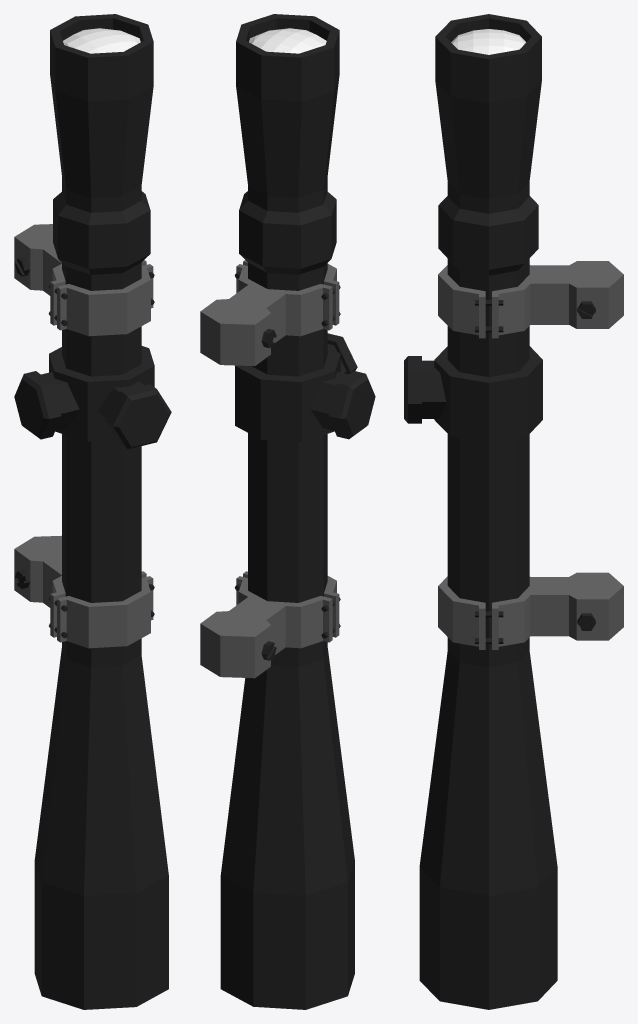
The model's file is ShotgunScope.glb.
The picture shows the model from 3 angles, left to right: view 1: azimuth 30°, elevation 25°; view 2: azimuth 150°, elevation 25°; view 3: azimuth 270°, elevation 25°; orthographic projection.
Parts seen in each view (by area): view 1: ShotgunScope; view 2: ShotgunScope; view 3: ShotgunScope.
Part boxes in pixels (x1,y1,x2,y2): ShotgunScope: [14, 14, 171, 1009]; ShotgunScope: [200, 14, 375, 1009]; ShotgunScope: [404, 14, 623, 1009].
Size of the model in its own units: 1.7 by 11.52 by 2.43.
1 material, 1 textured.
